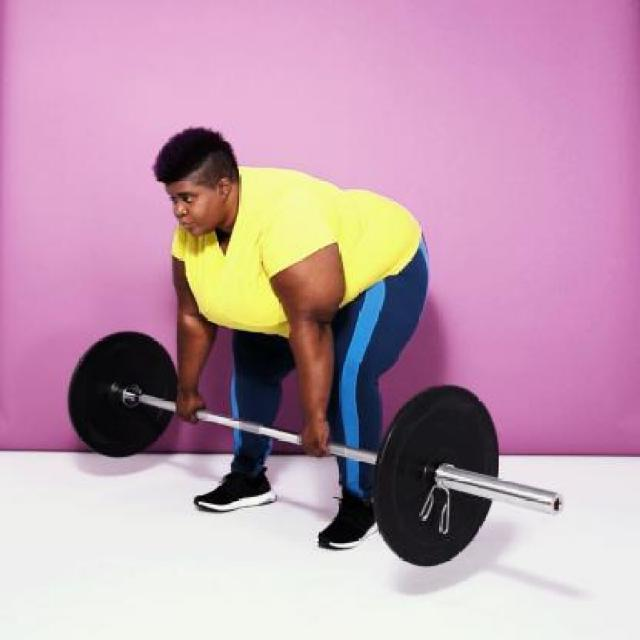Barbell: (545, 490, 567, 521)
